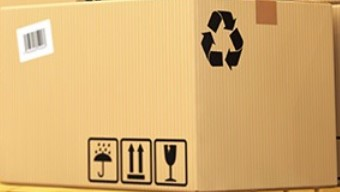stock: (1, 1, 338, 192)
